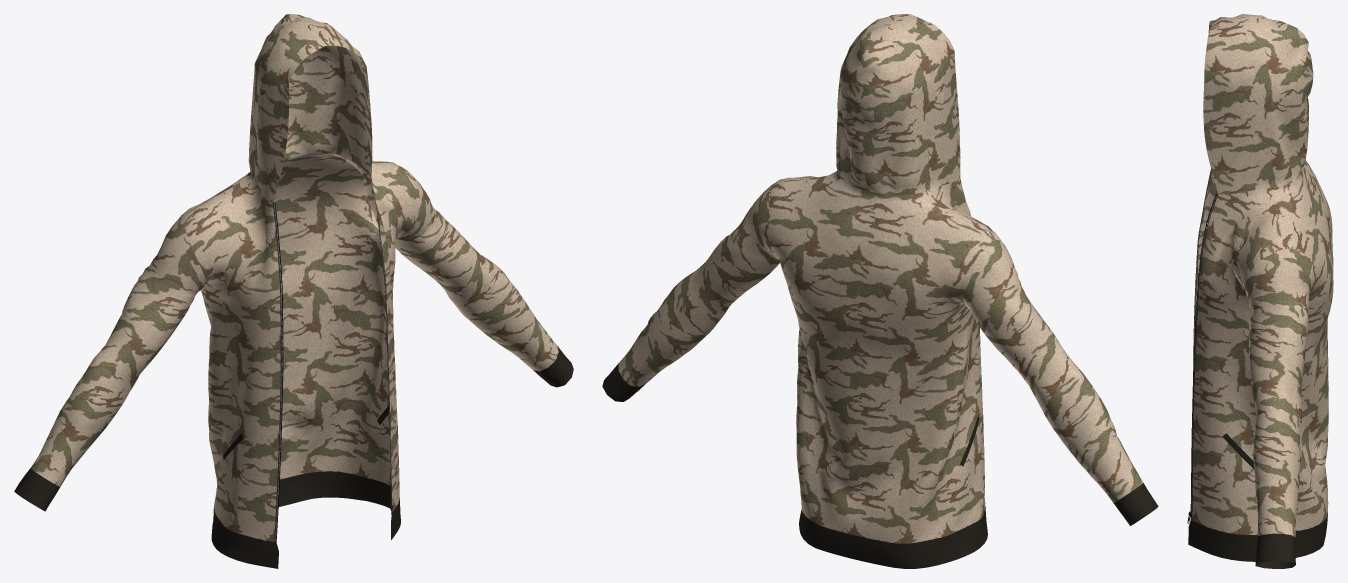
The model's file is Hoodie.FBX.
3 views of the same model, side by side, from view 1: azimuth 30°, elevation 25°; view 2: azimuth 150°, elevation 25°; view 3: azimuth 270°, elevation 25° (orthographic).
Parts seen in each view (by area): view 1: Hoodie (×11); view 2: Hoodie (×9); view 3: Hoodie (×11).
Boxes of the visible parts, x1,y1,x2,y2 form: Hoodie (×11): (14, 14, 573, 568); Hoodie (×9): (602, 14, 1158, 568); Hoodie (×11): (1188, 14, 1333, 568).
Size of the model in its own units: 43.71 by 38.99 by 10.16.
3 materials, 2 textured.
